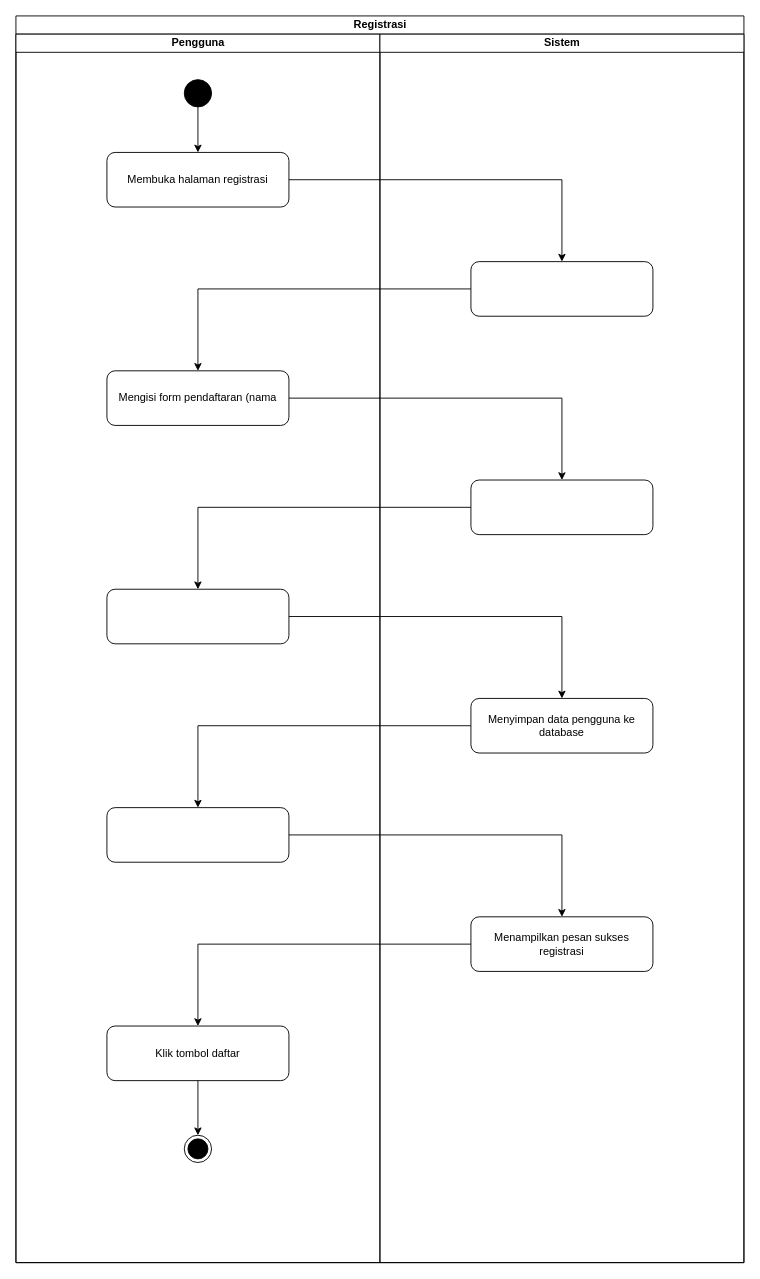
Image size: 760x1279. Some labels were removed from this diagram. The shapes that lost their labels are listed below. From the top down, each one's centre as x and y in pixels, then its label:
At point (561, 288): "Menampilkan form registrasi".
At point (561, 507): "Validasi data input".
At point (197, 616): "email".
At point (197, 834): "password)".
